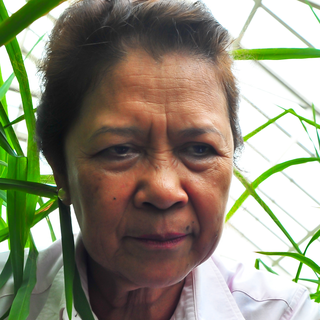eye: (95, 140, 145, 164), (177, 139, 222, 164)
